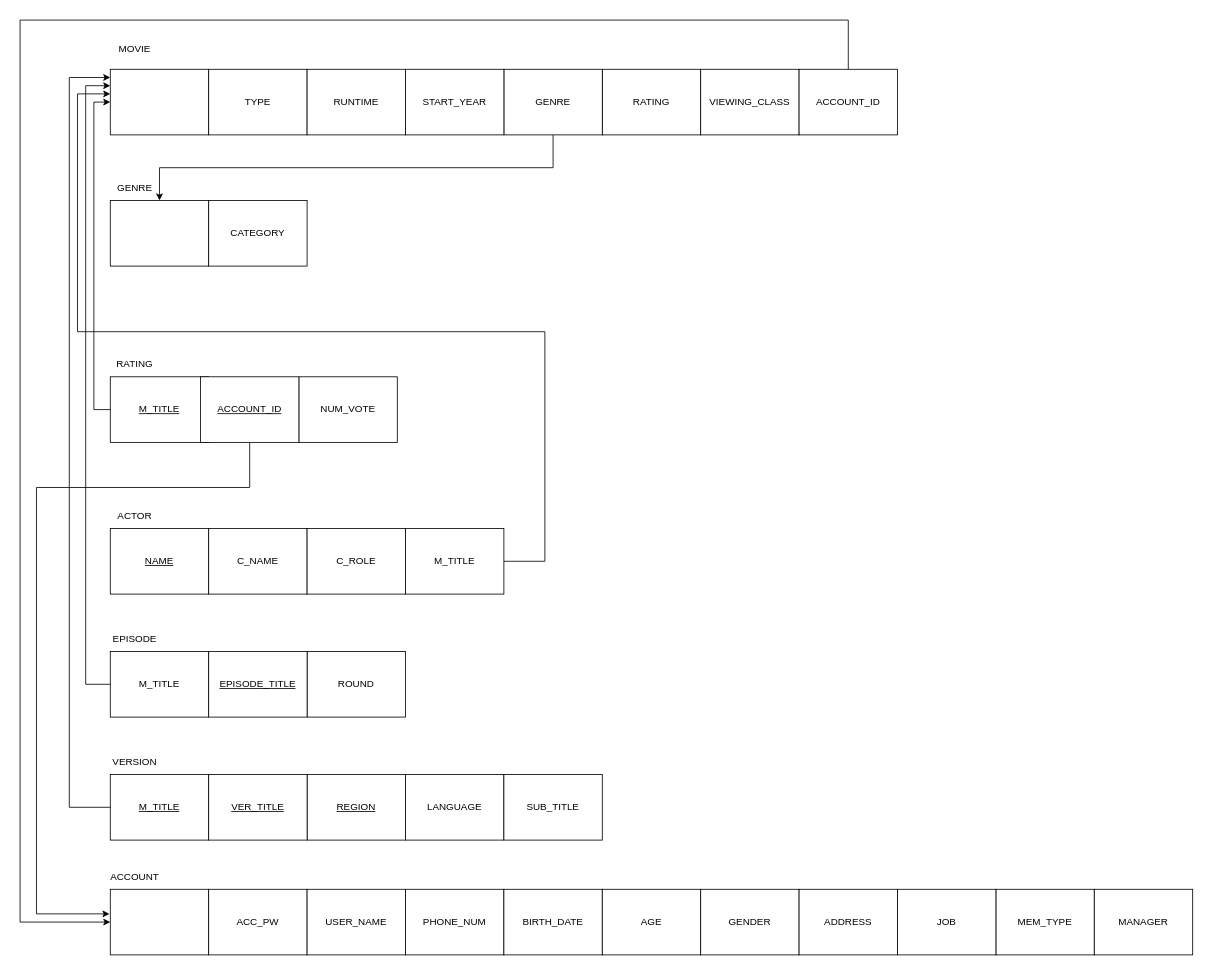
This 1207x969 diagram has some shape labels left out. The shapes that lost their labels are listed below. From the top down, each one's box as (x1, y1, x2, y2) in pixels, then its label:
(109, 68, 209, 135): TITLE
(109, 200, 209, 266): GENRE_SEQ
(109, 888, 209, 955): ACC_ID
